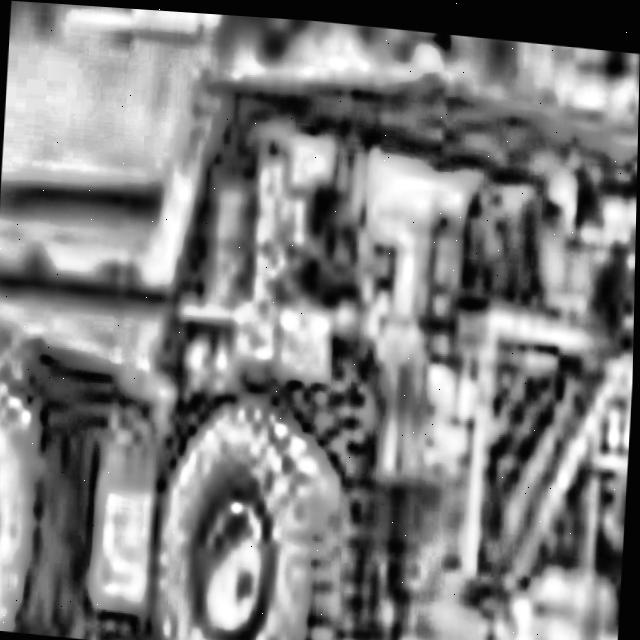dump_truck: (0, 34, 639, 640)
